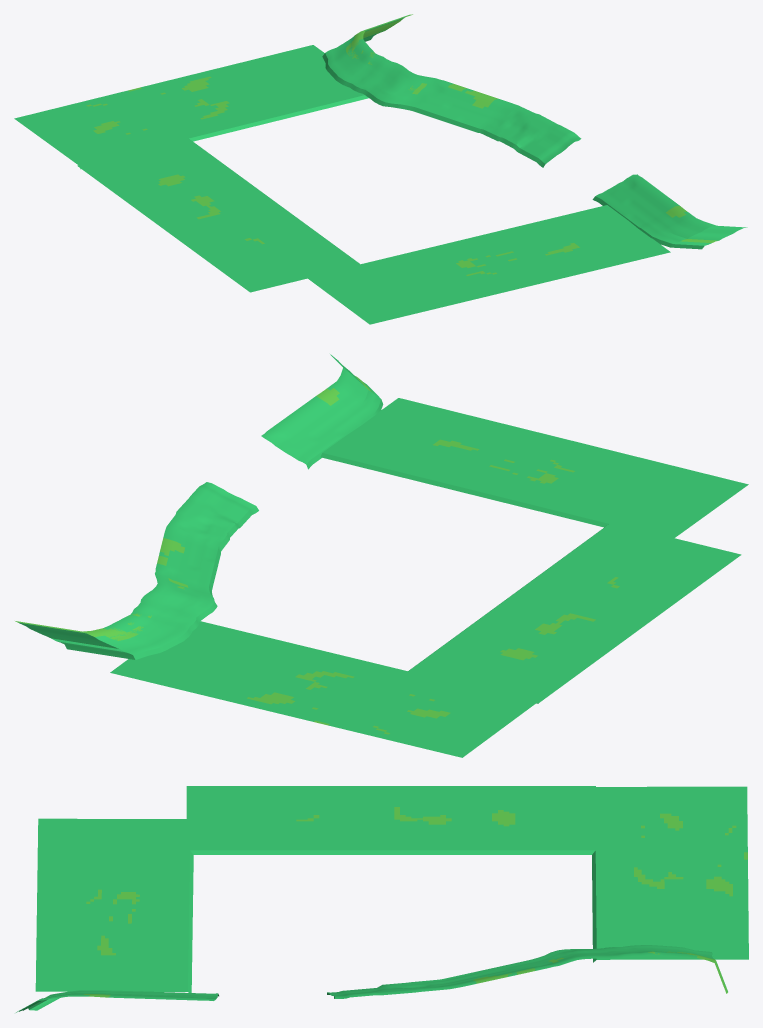
Rendered from inv NonWalkable.fbx.
3 views of the same model, one above another, from view 1: azimuth 30°, elevation 25°; view 2: azimuth 150°, elevation 25°; view 3: azimuth 270°, elevation 25° (orthographic). The views are drawn at different scales.
Parts seen in each view (by area): view 1: Default; view 2: Default; view 3: Default.
Part boxes in pixels (x1,y1,x2,y2): Default: [14, 14, 747, 324]; Default: [15, 354, 748, 757]; Default: [16, 786, 748, 1012].
Size of the model in its own units: 142 by 6.47 by 180.
